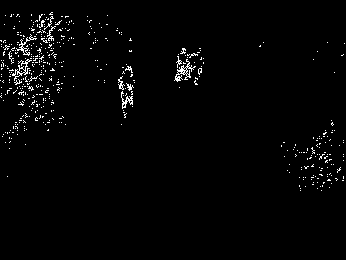person: (116, 60, 136, 122)
